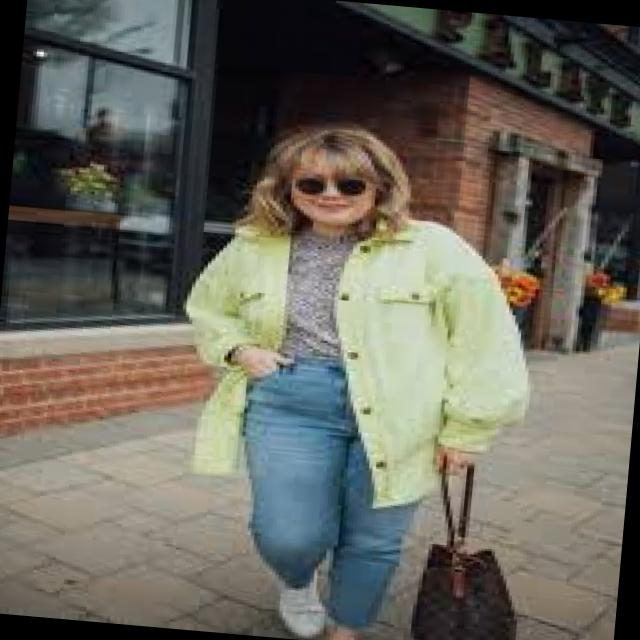Jacket: (154, 212, 548, 518)
